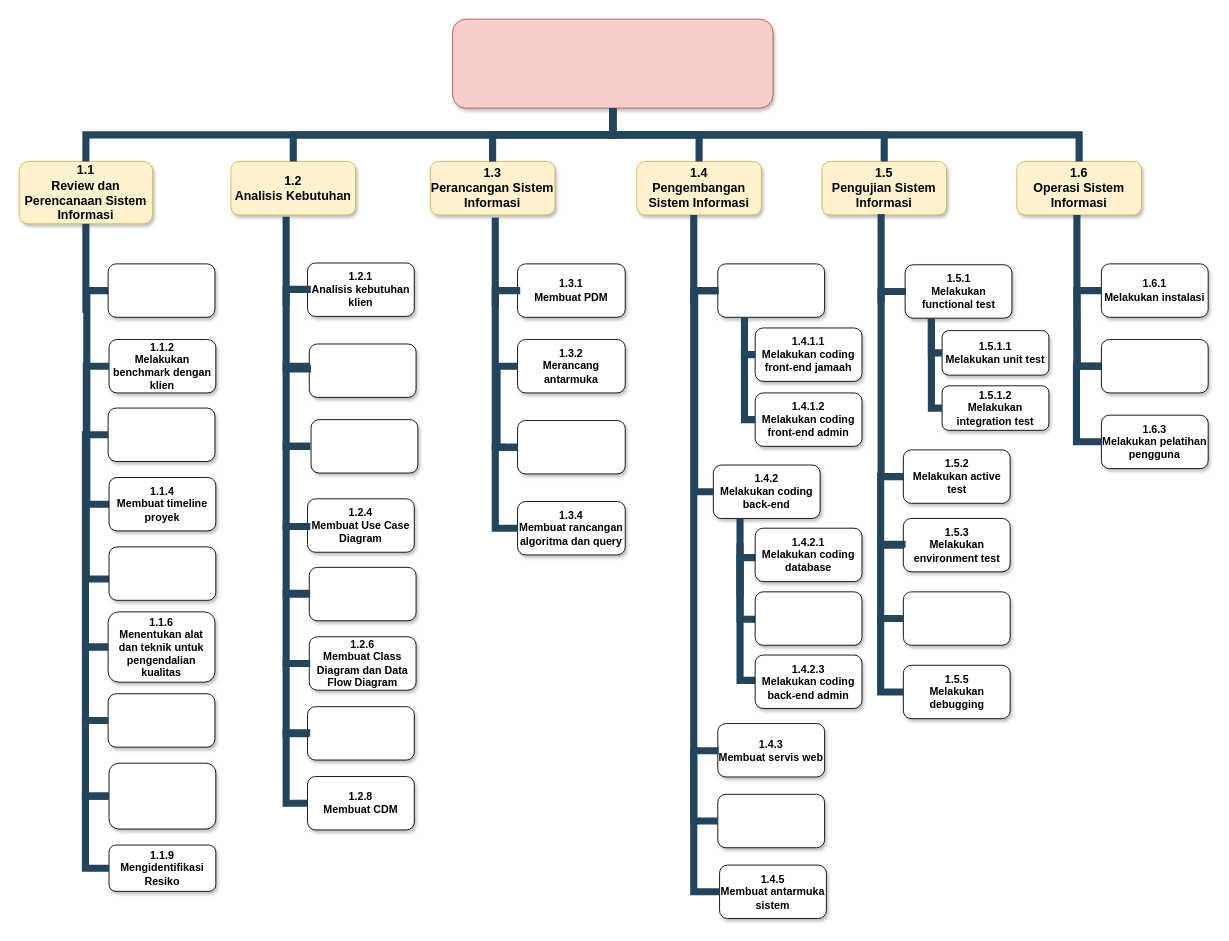
Image size: 1229x941. Some labels were removed from this diagram. The centre of each missing label's shape, as x and y in pixels:
1 Sistem Informasi Masjid Manarul Ilmi: (x=613, y=64)
1.1.1 Mereview Sistem Informasi Masjid Manarul Ilmi: (x=162, y=291)
1.1.3 Mengananalisa hasil benchmark: (x=162, y=436)
1.1.5 Menghitung biaya proyek: (x=163, y=574)
1.1.7 Membuat struktur organisasi: (x=162, y=721)
1.1.8 Menentukan kebutuhan komunikasi dalam stakeholder: (x=163, y=797)
1.2.2 Analisis kebutuhan fungsional: (x=363, y=372)
1.2.3 Analisis kebutuhan non fungsional: (x=365, y=447)
1.2.5 Membuat Activity Diagram: (x=363, y=595)
1.2.7 Membuat Sequence Diagram: (x=361, y=734)
1.3.3 Membuat rancangan arsitektural dan komponen: (x=572, y=448)
1.4.1 Melakukan coding front-end: (x=771, y=291)
1.4.2.2 Melakukan coding back-end jamaah: (x=809, y=619)
1.4.4 Membuat arsitektural sistem: (x=771, y=822)
1.5.4 Melakukan recovery test: (x=957, y=619)
1.6.2 Pembuatan dokumen user manual: (x=1155, y=367)
